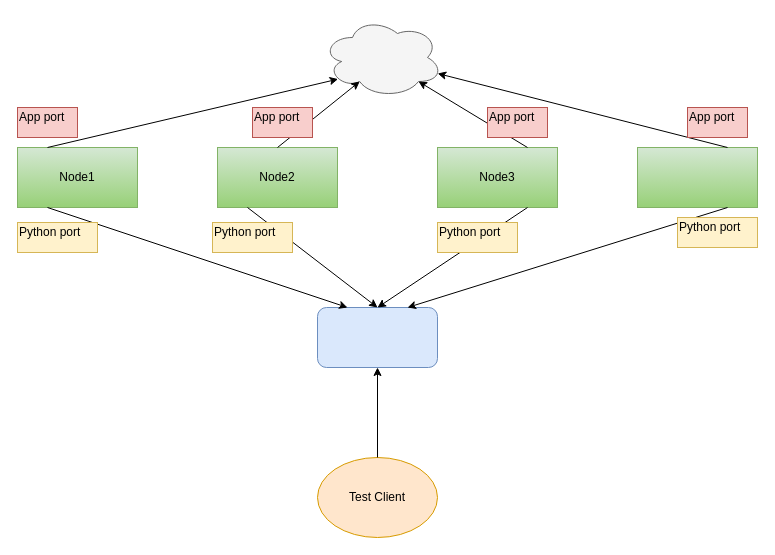
This 775x555 diagram has some shape labels left out. The shapes that lost their labels are listed below. From the top down, each one's box as (x1, y1, x2, y2) in pixels, then its label:
(322, 16, 442, 98): Cluster
(636, 146, 758, 208): Node4
(316, 306, 438, 368): Test Server
